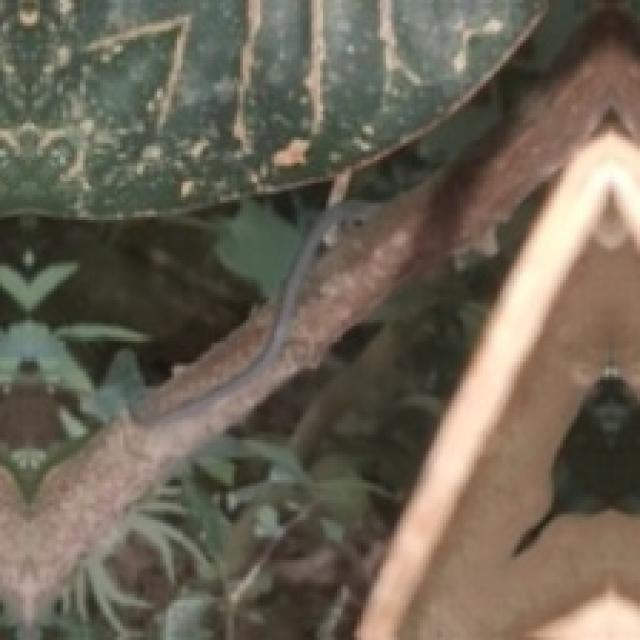red-tailed green ratsnake: (80, 204, 371, 429)
